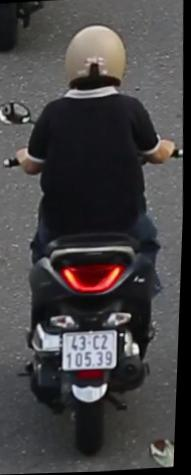LP: (63, 325, 122, 375)
helmet: (56, 17, 131, 112)
